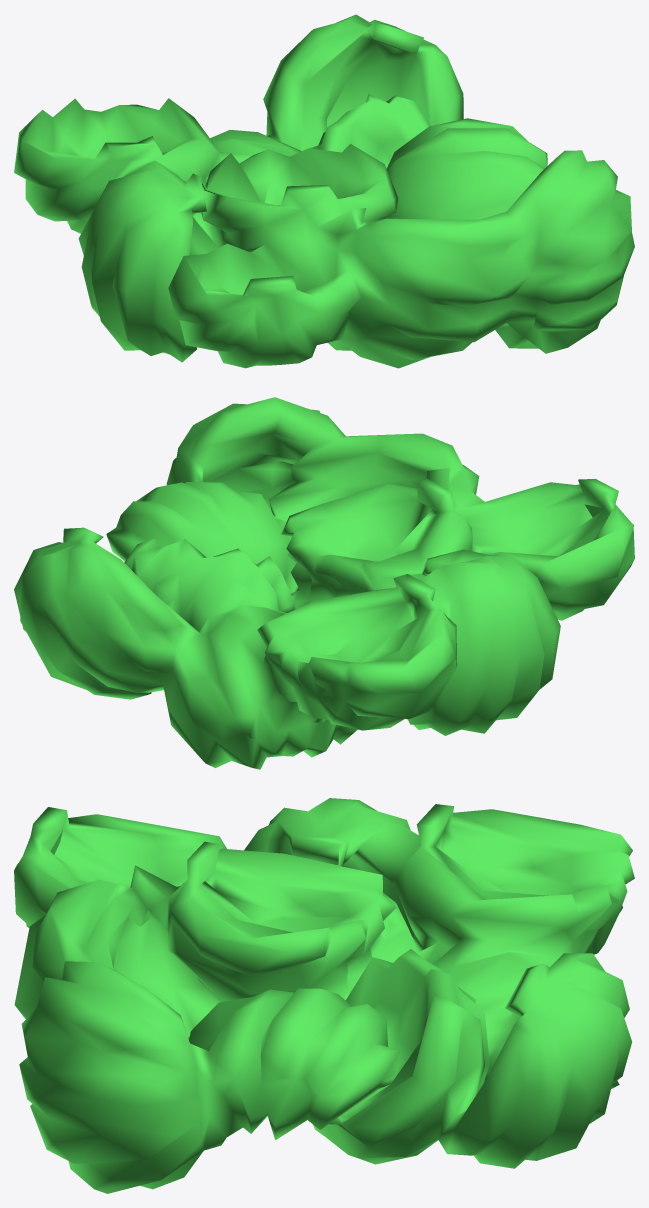
The model's file is SM_town_bananajoin.fbx.
3 views of the same model, one above another, from view 1: azimuth 30°, elevation 25°; view 2: azimuth 150°, elevation 25°; view 3: azimuth 270°, elevation 25° (orthographic). The views are drawn at different scales.
Visible parts, largest first — view 1: banana_join_low; view 2: banana_join_low; view 3: banana_join_low.
Boxes of the visible parts, bbox=[...] form: banana_join_low: bbox=[14, 14, 634, 368]; banana_join_low: bbox=[14, 397, 634, 769]; banana_join_low: bbox=[14, 798, 634, 1193].
Bounding box in the file's own units: 55.83 × 22.32 × 55.89.
